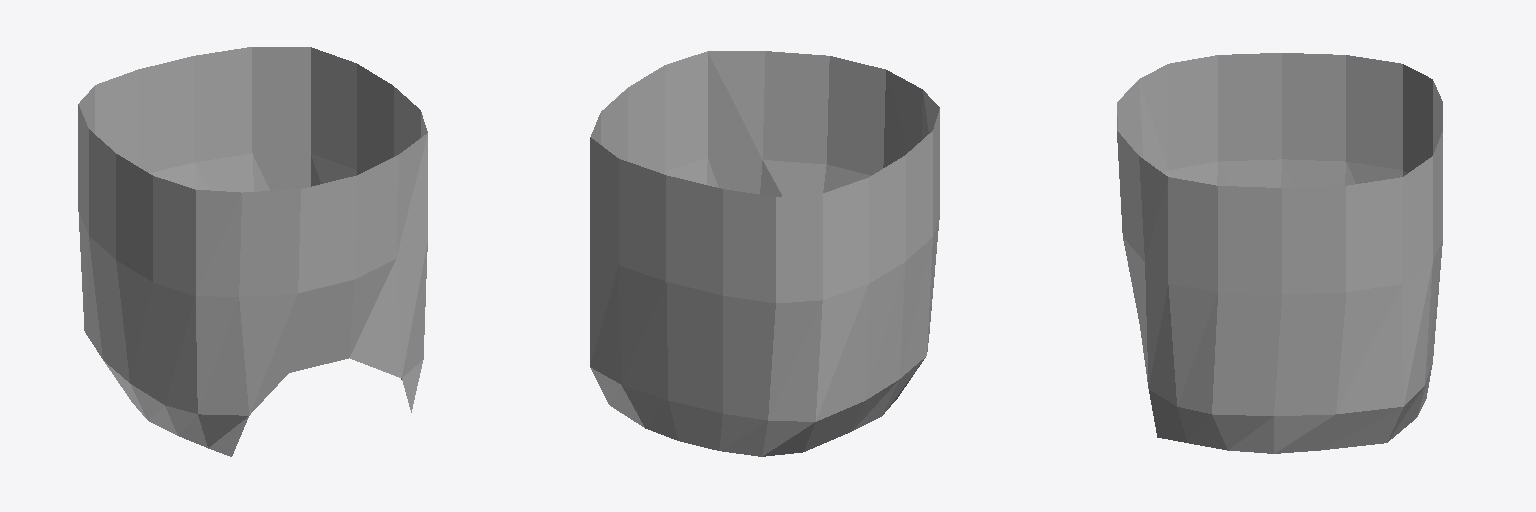
Rendered from rightArm3Cover.obj.
3 views of the same model, side by side, from view 1: azimuth 30°, elevation 25°; view 2: azimuth 150°, elevation 25°; view 3: azimuth 270°, elevation 25° (orthographic).
Visible parts, largest first — view 1: unnamed_object1; view 2: unnamed_object1; view 3: unnamed_object1.
Boxes of the visible parts, x1=… form: unnamed_object1: x1=78, y1=47, x2=427, y2=456; unnamed_object1: x1=590, y1=51, x2=939, y2=456; unnamed_object1: x1=1117, y1=53, x2=1442, y2=453.
Size of the model in its own units: 9.71 by 9.08 by 9.9.